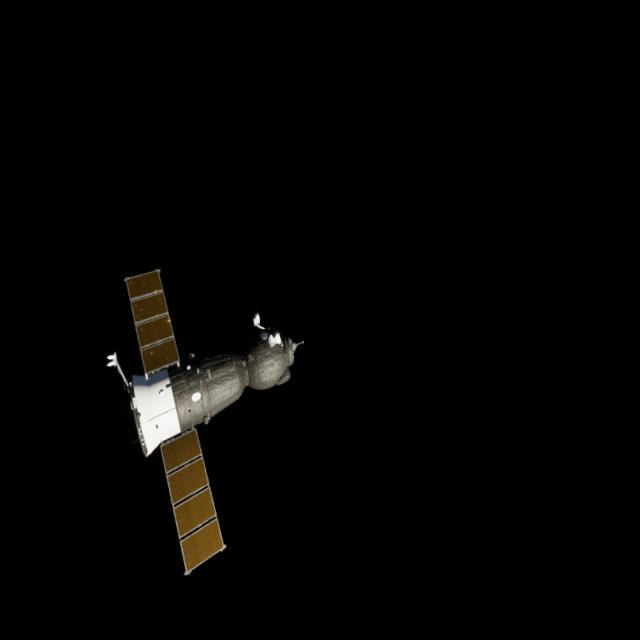Satellites revolving around earth: (92, 264, 309, 584)
